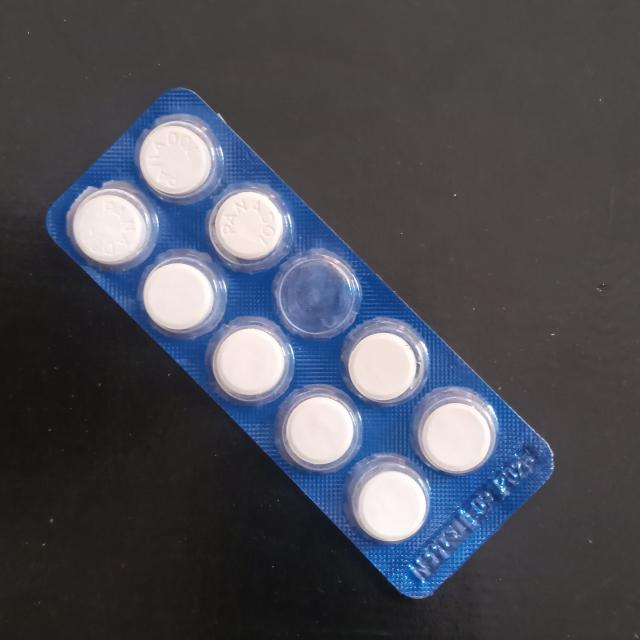defect: (276, 252, 358, 337)
